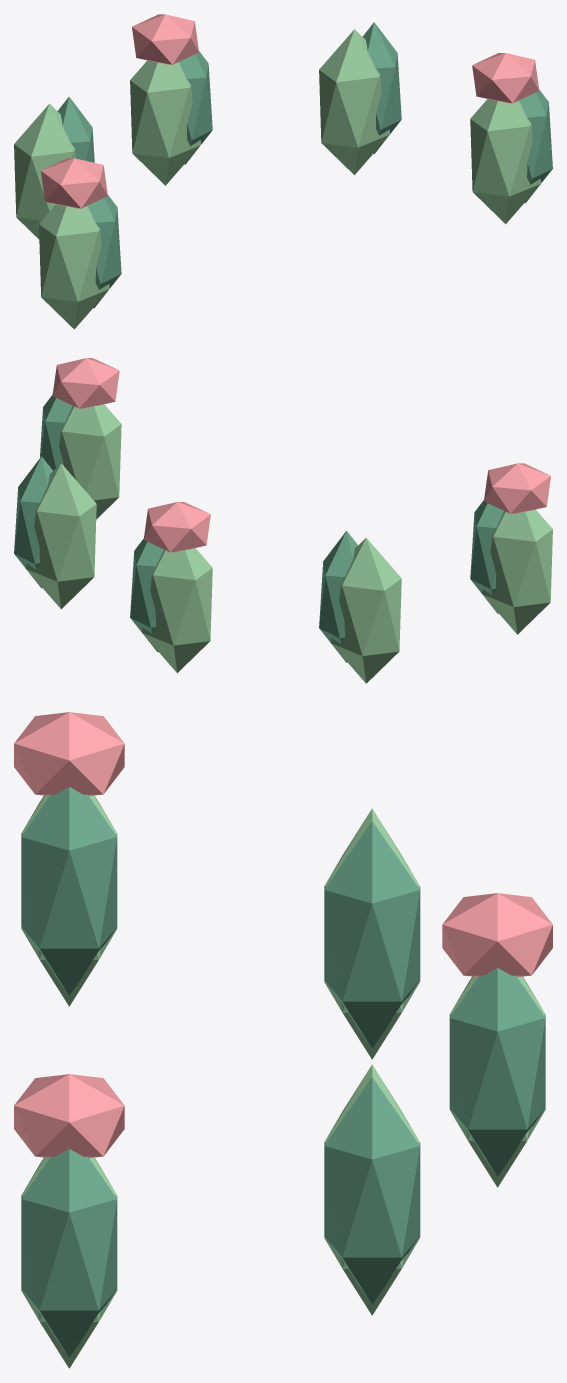
3 renders of one model, top to bottom at view 1: azimuth 30°, elevation 25°; view 2: azimuth 150°, elevation 25°; view 3: azimuth 270°, elevation 25°, orthographic. The views are drawn at different scales.
Visible parts, largest first — view 1: ai_export.008; view 2: ai_export.008; view 3: ai_export.008.
Part boxes in pixels (x1,y1,x2,y2): ai_export.008: (14,14,552,329); ai_export.008: (14,358,552,683); ai_export.008: (14,712,552,1368).
Size of the model in its own units: 2.32 by 0.75 by 1.24.
